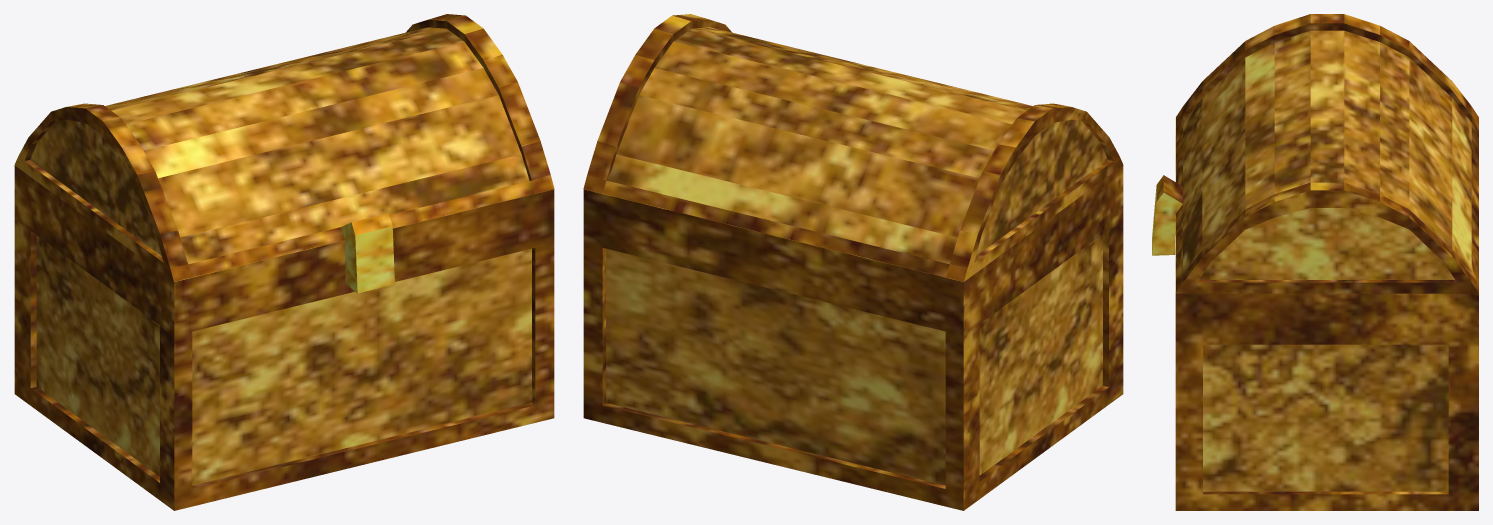
Rendered from Tier6Chest.glb.
The picture shows the model from 3 angles, left to right: view 1: azimuth 30°, elevation 25°; view 2: azimuth 150°, elevation 25°; view 3: azimuth 270°, elevation 25°; orthographic projection. The views are drawn at different scales.
Visible parts, largest first — view 1: Tier6Chest; view 2: Tier6Chest; view 3: Tier6Chest.
Boxes of the visible parts, <box> form: Tier6Chest: <box>14,14,554,510</box>; Tier6Chest: <box>583,14,1123,510</box>; Tier6Chest: <box>1152,14,1478,510</box>.
Bounding box in the file's own units: 0.686 × 0.5817 × 0.5375.
Materials: 3 (3 with a texture image).
